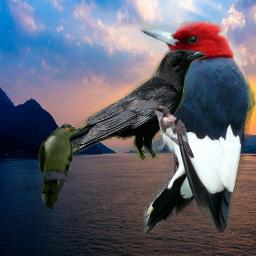Crow: (46, 49, 207, 162)
Cuckoo: (38, 123, 75, 209), (148, 104, 194, 159)
Woodpecker: (139, 14, 256, 241)
